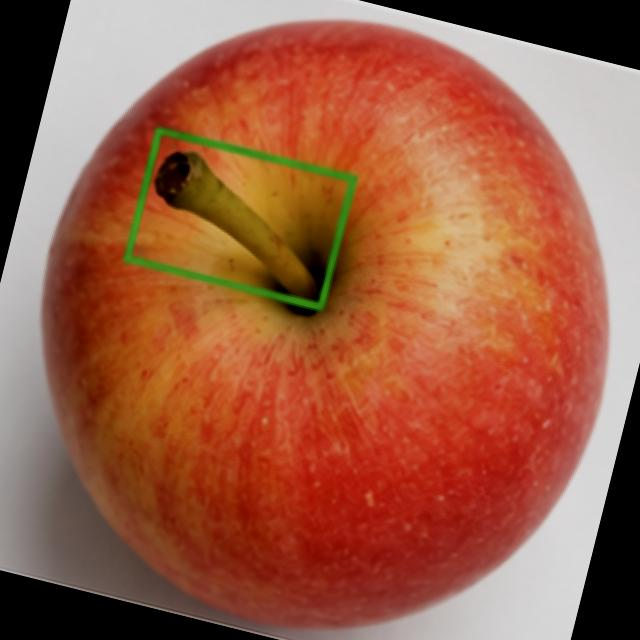Fruit-Stem-Detection: (118, 125, 360, 312), (163, 148, 313, 289)
